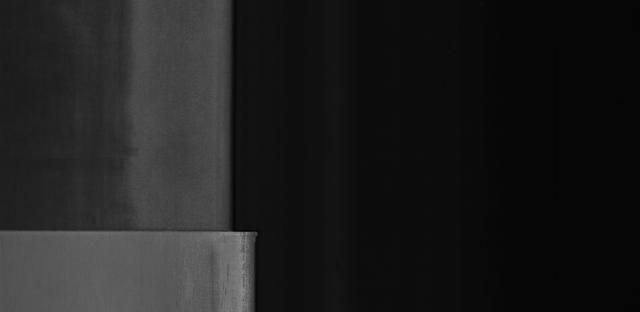welding_line: (0, 211, 281, 242)
